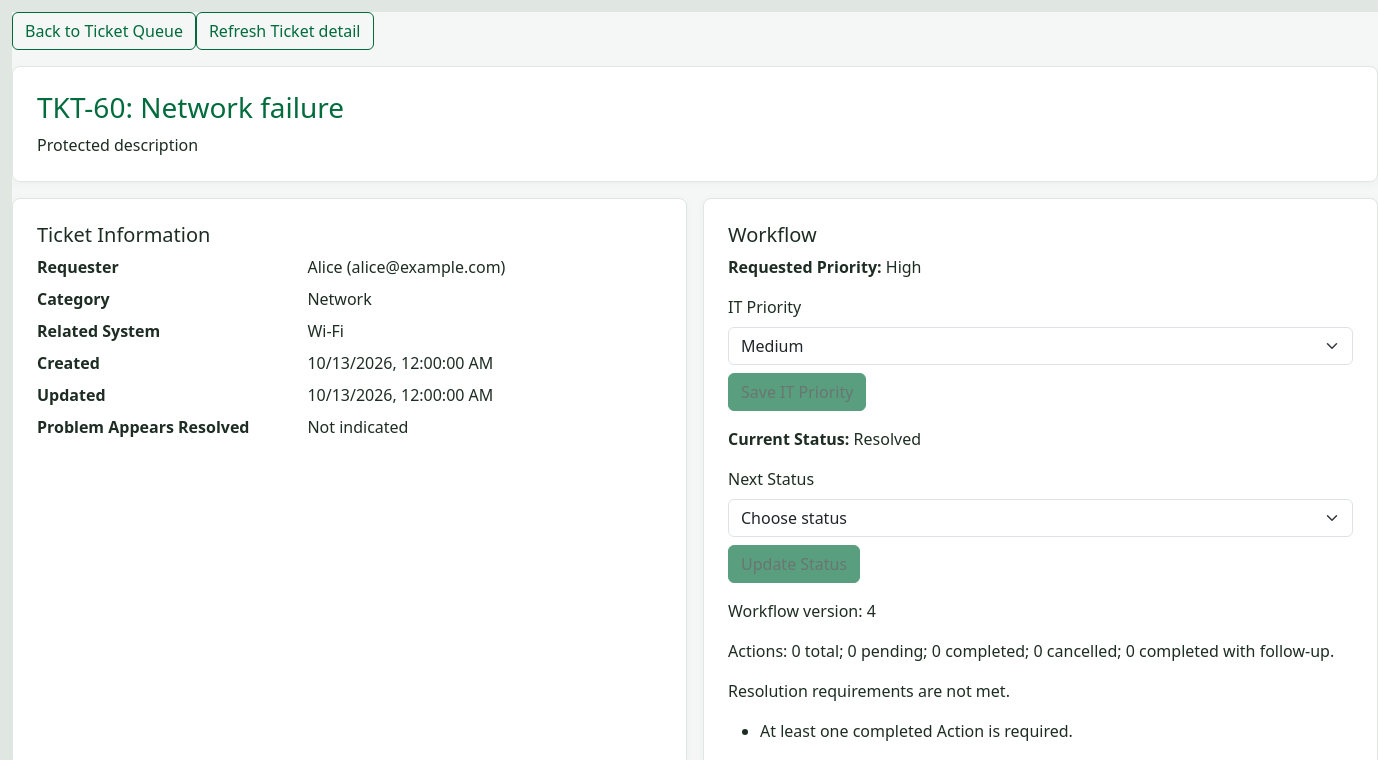
Test case: Issue #60 workflow controls › shows the explicit legacy close exception and closing confirmation
The width and height of the screenshot is (1378, 760).
Select "Closed" in the dropdown labelled "Next Status". click: [1040, 518]
box: [728, 499, 1353, 537]
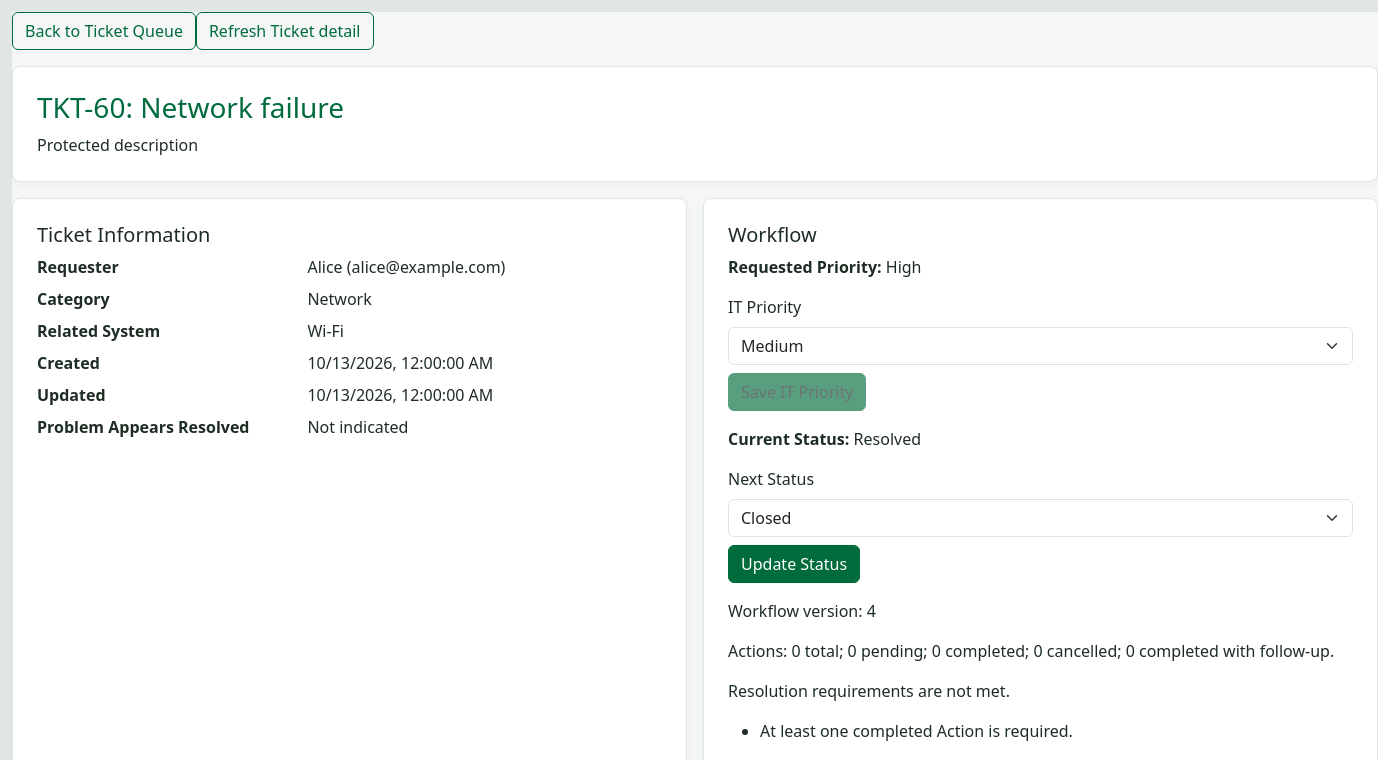
Click the button "Update Status". click: [794, 564]
box: [728, 545, 860, 583]
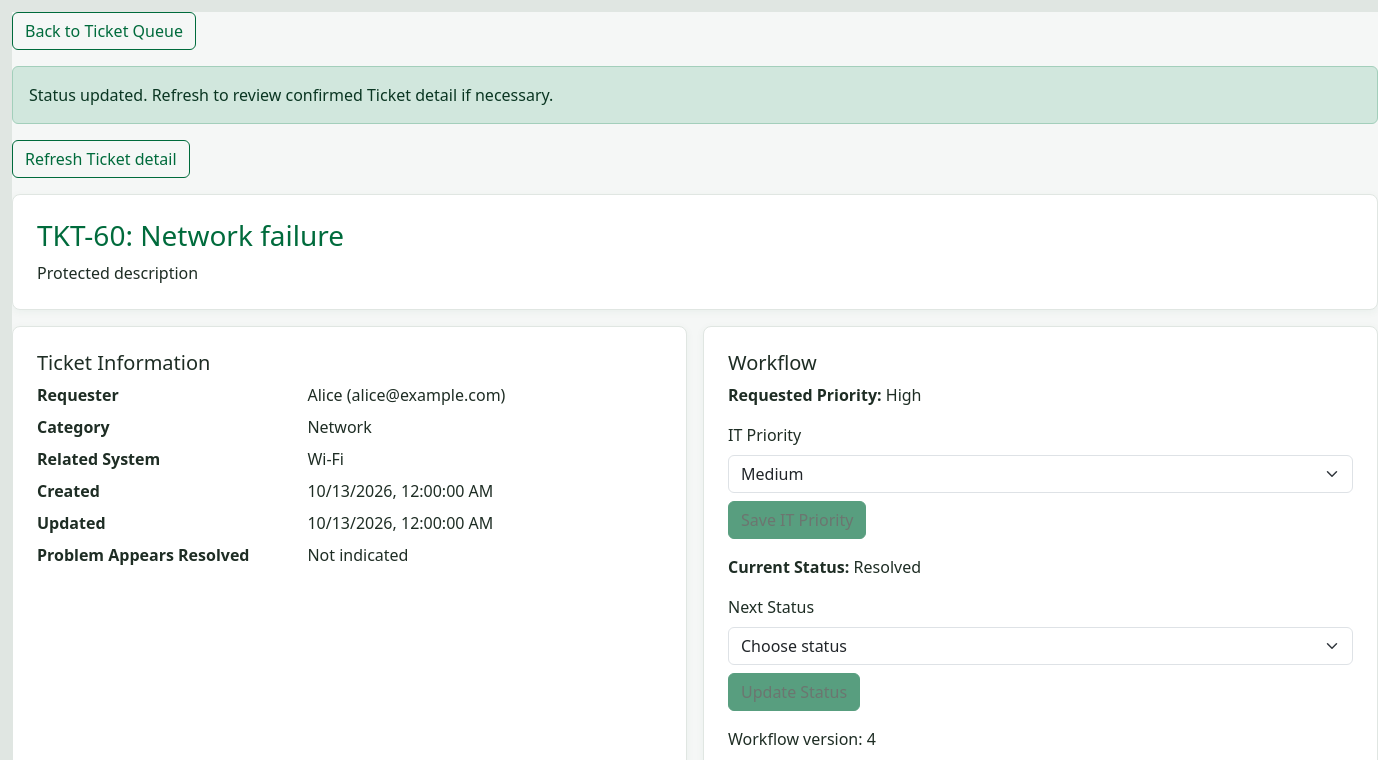
expect the dropdown labelled "Next Status" is enabled: met, box [728, 627, 1353, 665]
expect the text "Status updated. Refresh to review confirmed Ticket detail if necessary." is shown: met, box [12, 66, 1377, 124]
